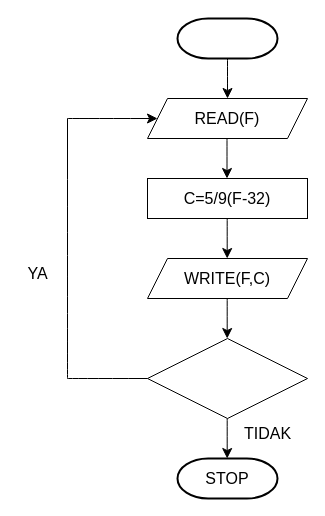
The diagram is 325 pixels wide and 516 high, and some of its shapes have lost their labels. Here are the shapes that lost their labels. From the top down, the centre of each, then its label:
point (227, 38): START
point (227, 378): LAGI
